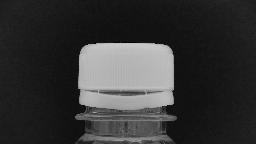Broken Ring: (75, 84, 177, 112)
Loose Cap: (74, 76, 178, 122)
